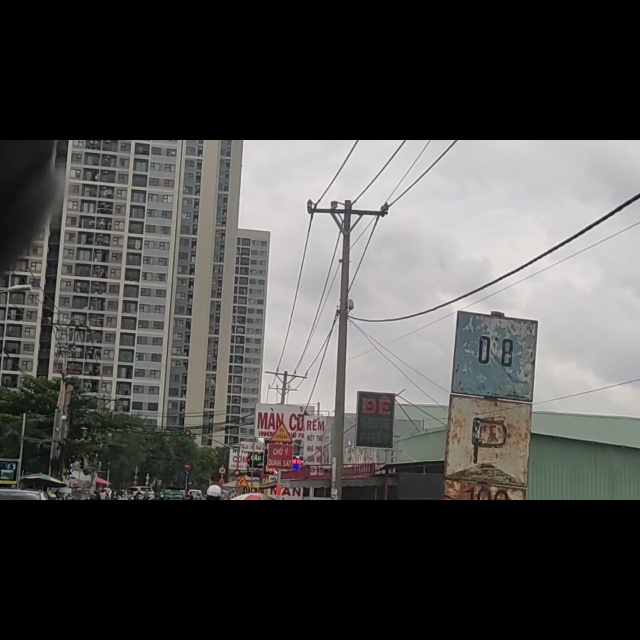bien_cam: (271, 500, 294, 539)
